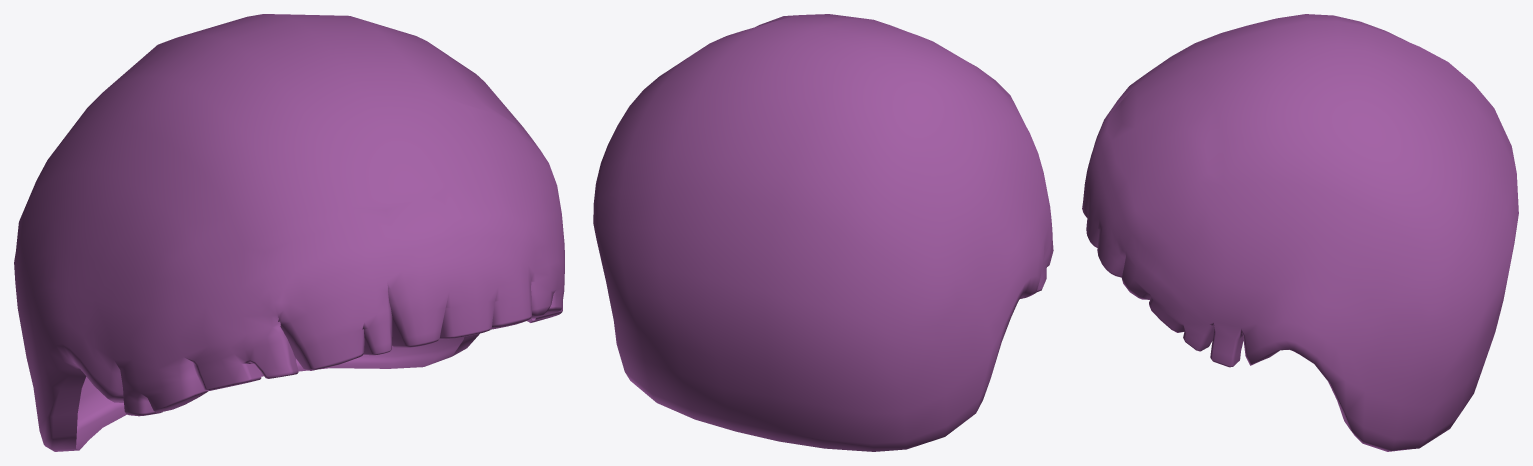
The picture shows the model from 3 angles, left to right: view 1: azimuth 30°, elevation 25°; view 2: azimuth 150°, elevation 25°; view 3: azimuth 270°, elevation 25°; orthographic projection. The views are drawn at different scales.
Visible parts, largest first — view 1: pasted__Mesh; view 2: pasted__Mesh; view 3: pasted__Mesh.
Part boxes in pixels (x1,y1,x2,y2): pasted__Mesh: (14,14,564,451); pasted__Mesh: (593,14,1053,451); pasted__Mesh: (1082,14,1518,451).
Size of the model in its own units: 0.9117 by 0.7524 by 0.8584.
